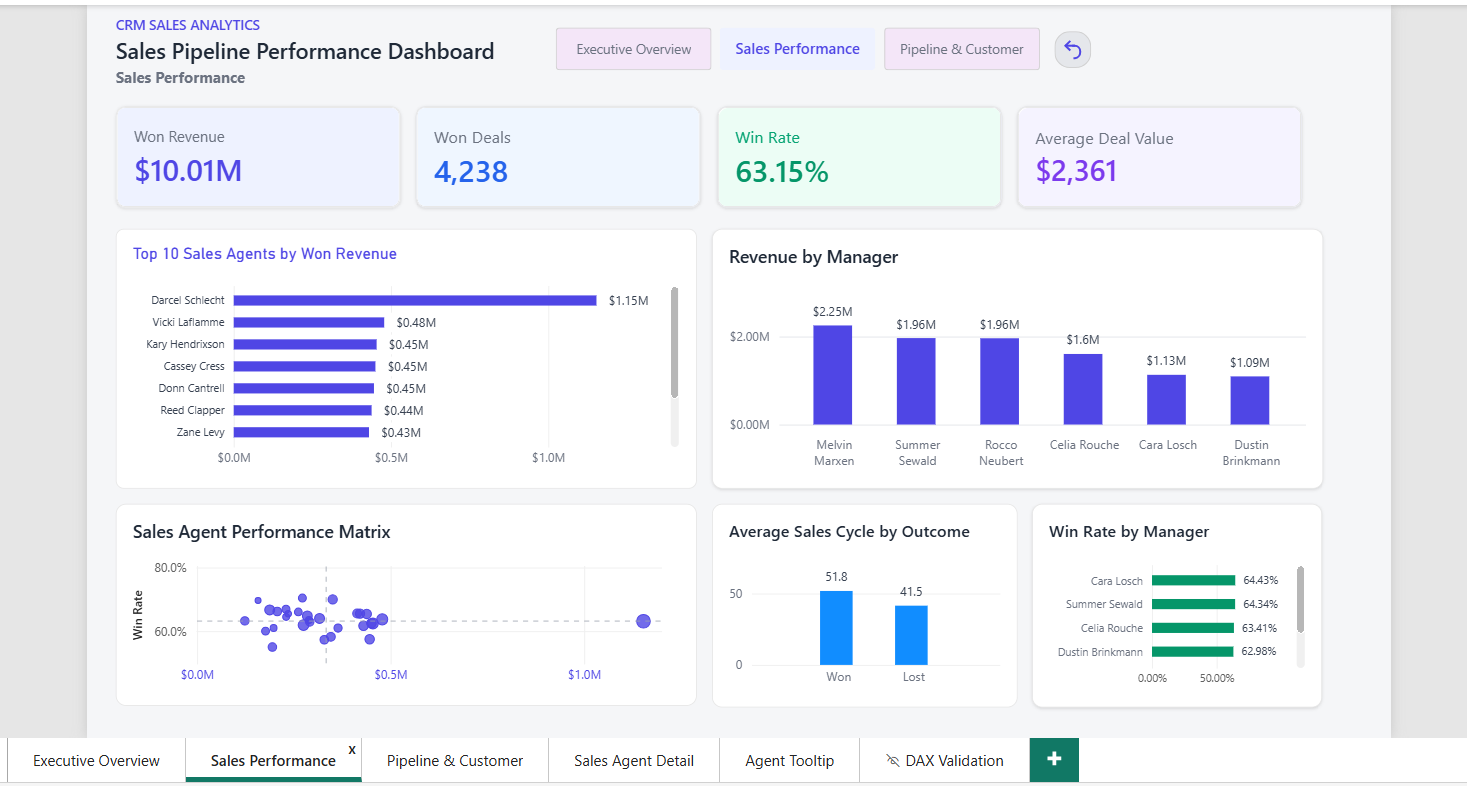

Layout of this report page (visuals, bound fields, positions):
{"tool":"powerbi","page":{"name":"Sales Performance","canvas":[1280,720],"ordinal":2},"visuals":[{"type":"cardVisual","fields":{"Data":["_Measures.Won Revenue"]},"box":[28,100,280,100],"z":3000},{"type":"cardVisual","fields":{"Data":["_Measures.Won Opportunities"]},"box":[323,100,280,100],"z":4000},{"type":"cardVisual","fields":{"Data":["_Measures.Win Rate %"]},"box":[618,100,280,100],"z":5000},{"type":"cardVisual","fields":{"Data":["_Measures.Average Won Deal Value"]},"box":[913,100,280,100],"z":6000},{"type":"clusteredBarChart","title":"Top 10 Sales Agents by Won Revenue","fields":{"Category":["sales_teams.sales_agent"],"Y":["_Measures.Won Revenue","select"]},"box":[28,220,570,255],"z":7000},{"type":"clusteredColumnChart","title":"Revenue by Manager","fields":{"Category":["sales_teams.manager"],"Y":["_Measures.Won Revenue"]},"box":[613,220,600,255],"z":8000},{"type":"scatterChart","title":"Sales Agent Performance Matrix","fields":{"Category":["sales_teams.sales_agent"],"Size":["_Measures.Won Opportunities"],"X":["_Measures.Won Revenue"],"Y":["_Measures.Win Rate %"]},"box":[28,490,570,198],"z":9000},{"type":"clusteredColumnChart","title":"Average Sales Cycle by Outcome","fields":{"Category":["sales_pipeline.deal_stage"],"Y":["_Measures.Average Sales Cycle"]},"box":[613,490,300,200],"z":10000},{"type":"clusteredBarChart","title":"Win Rate by Manager","fields":{"Category":["sales_teams.manager"],"Y":["_Measures.Win Rate %"]},"box":[928,490,285,200],"z":11000},{"type":"textbox","box":[28,10,200,18],"z":11002},{"type":"textbox","box":[28,29,420,32],"z":11003},{"type":"textbox","box":[28,60,200,22],"z":11004},{"type":"pageNavigator","box":[460,22,475,42],"z":11005},{"type":"actionButton","box":[950,26,36,36],"z":11006}]}

Visuals, with their boxes on the page's 1280x720 design canvas (x1, y1, x2, y2). These are canvas units, not pixel positions in the 1467x786 screenshot, which may show the page scaled, cropped or inside an application window:
cardVisual - _Measures.Won Revenue: locate(28, 100, 308, 200)
cardVisual - _Measures.Won Opportunities: locate(323, 100, 603, 200)
cardVisual - _Measures.Win Rate %: locate(618, 100, 898, 200)
cardVisual - _Measures.Average Won Deal Value: locate(913, 100, 1193, 200)
"Top 10 Sales Agents by Won Revenue" clusteredBarChart: locate(28, 220, 598, 475)
"Revenue by Manager" clusteredColumnChart: locate(613, 220, 1213, 475)
"Sales Agent Performance Matrix" scatterChart: locate(28, 490, 598, 688)
"Average Sales Cycle by Outcome" clusteredColumnChart: locate(613, 490, 913, 690)
"Win Rate by Manager" clusteredBarChart: locate(928, 490, 1213, 690)
textbox: locate(28, 10, 228, 28)
textbox: locate(28, 29, 448, 61)
textbox: locate(28, 60, 228, 82)
pageNavigator: locate(460, 22, 935, 64)
actionButton: locate(950, 26, 986, 62)
